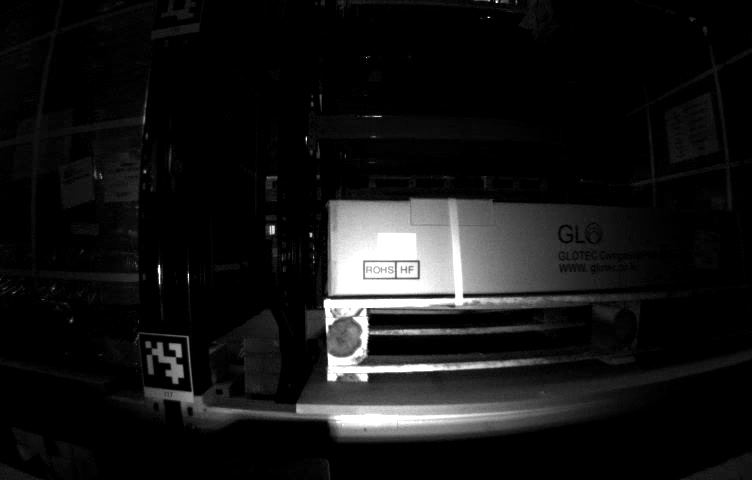True Barcode: (100, 163, 142, 203)
